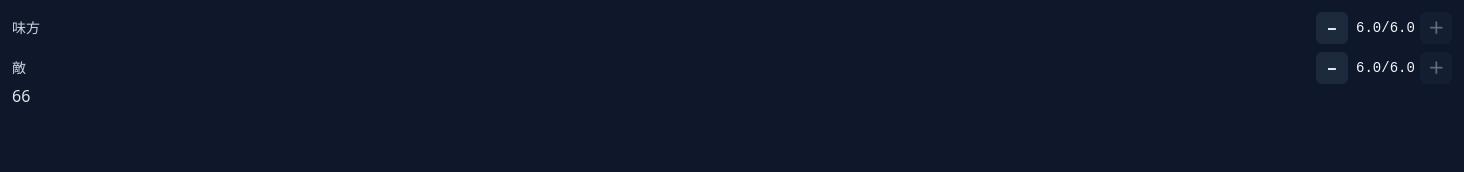
Test: TeamRemainingCostEditor › decrements ally by 0.5 on − click
The width and height of the screenshot is (1464, 172).
Expected: the text with test id "probe-ally" reads "6", [12,85,21,107]
Click the button named "味方残コストを 0.5 減らす". click: click(1332, 28)
box: [1316,12,1348,44]
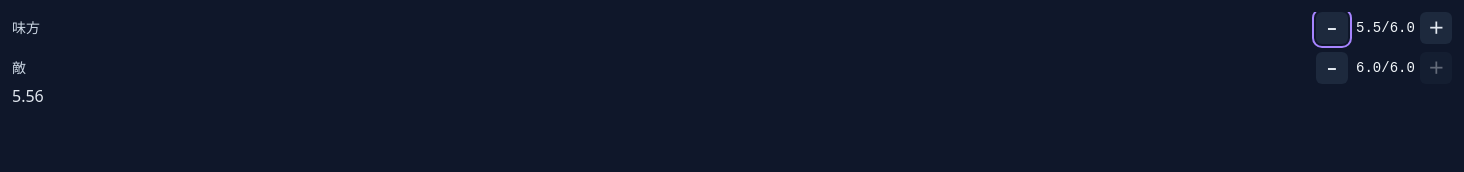
Now the text with test id "probe-ally" reads "5.5", box [12,85,35,107]
